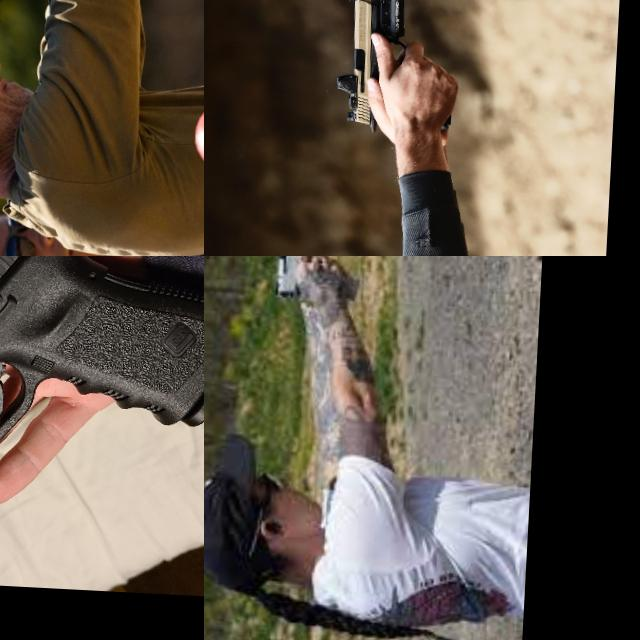handgun: (0, 256, 204, 540), (332, 0, 415, 135), (269, 256, 321, 308), (0, 0, 35, 58)
